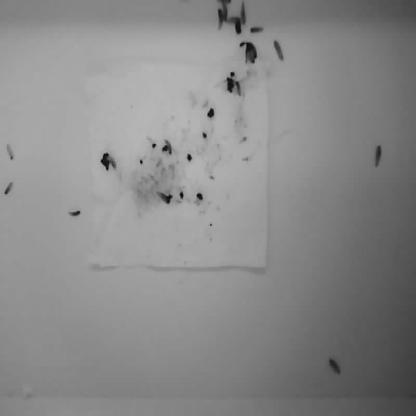PtecticusTenebrifer: (273, 40, 286, 62), (106, 154, 119, 172), (329, 357, 341, 374), (6, 144, 16, 162), (374, 145, 382, 166), (165, 137, 173, 157), (241, 0, 247, 25), (4, 182, 14, 196), (218, 8, 223, 32), (250, 26, 264, 34), (226, 15, 242, 22), (68, 210, 82, 217)
